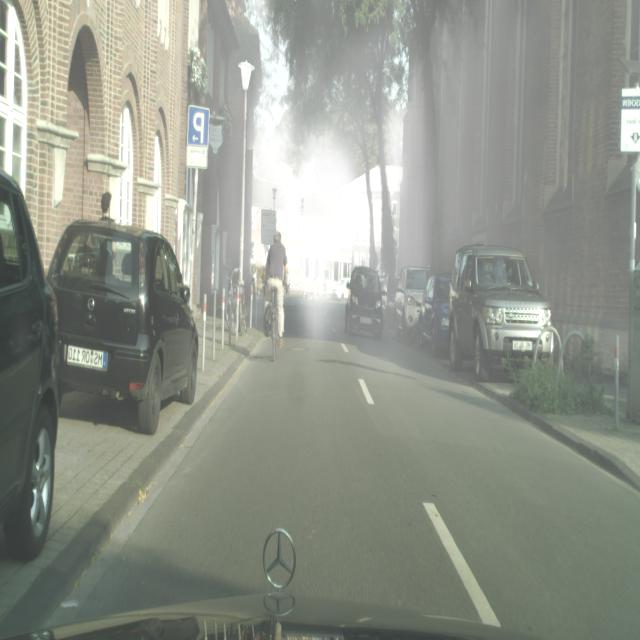car: (265, 284, 282, 360)
person: (262, 229, 289, 344)
truck: (46, 218, 199, 435), (0, 169, 61, 559), (448, 244, 552, 381), (344, 266, 386, 341), (419, 274, 451, 358), (394, 266, 429, 341), (332, 278, 351, 302)
